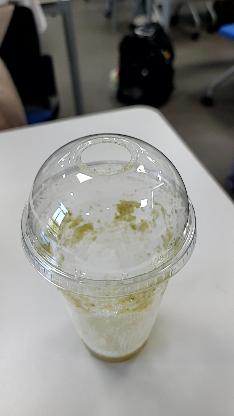Plastic Cup: (19, 127, 206, 372), (17, 134, 209, 298)
